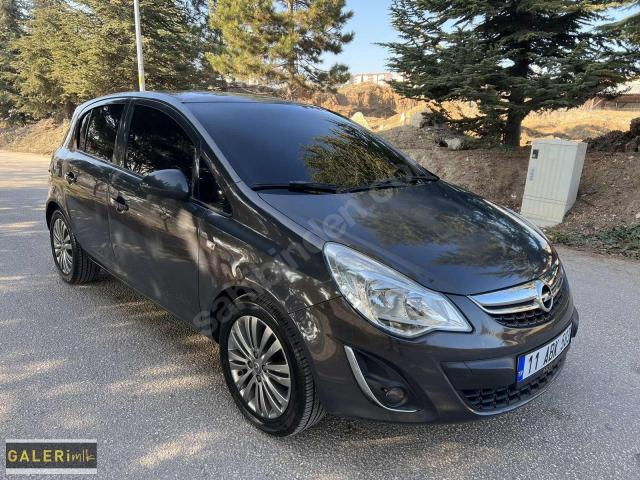plaka: (516, 327, 570, 382)
